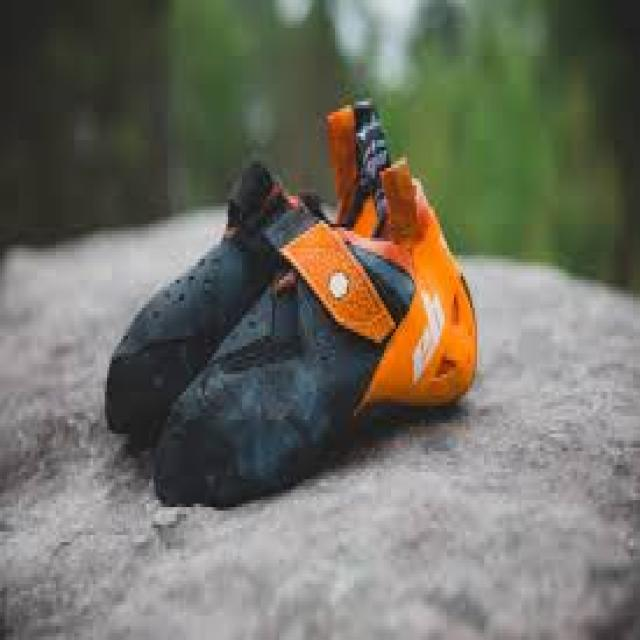climbing-shoes: (156, 176, 479, 504), (106, 118, 399, 433)
